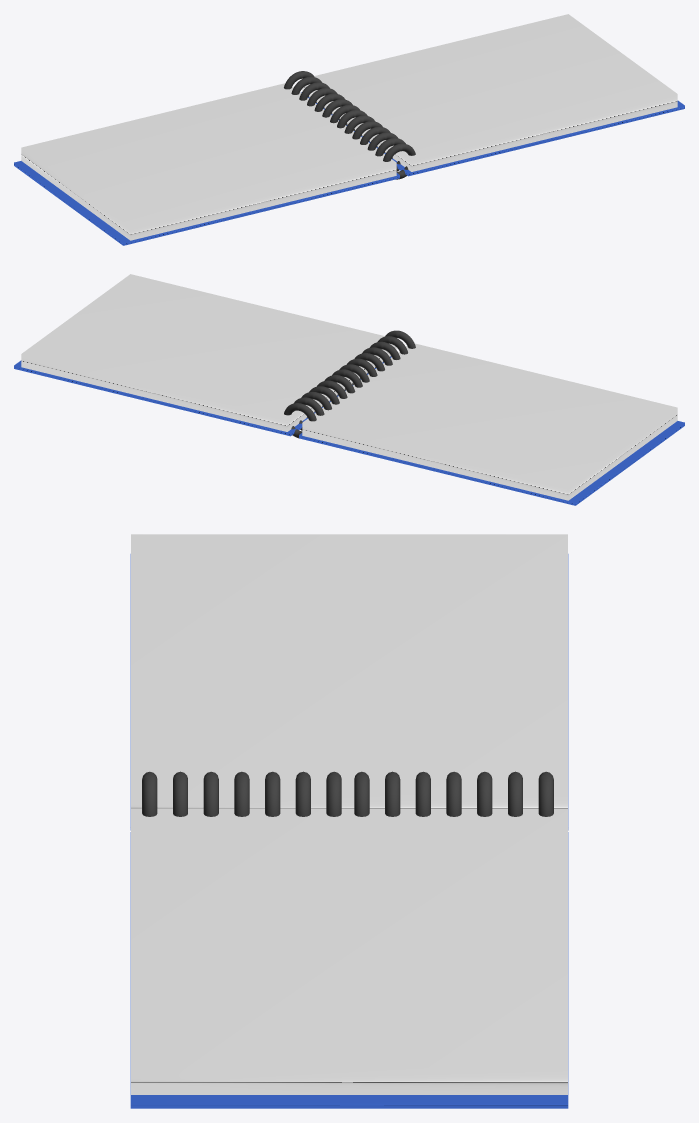
File: open notepad.fbx
The picture shows the model from 3 angles, top to bottom: view 1: azimuth 30°, elevation 25°; view 2: azimuth 150°, elevation 25°; view 3: azimuth 270°, elevation 25°; orthographic projection. The views are drawn at different scales.
Parts seen in each view (by area): view 1: Cube.002; view 2: Cube.002; view 3: Cube.002.
Boxes of the visible parts, box(x1,y1,x2,y2) form: Cube.002: box(14, 14, 684, 245); Cube.002: box(14, 274, 684, 505); Cube.002: box(130, 534, 568, 1108).
Size of the model in its own units: 422 by 24.86 by 142.
